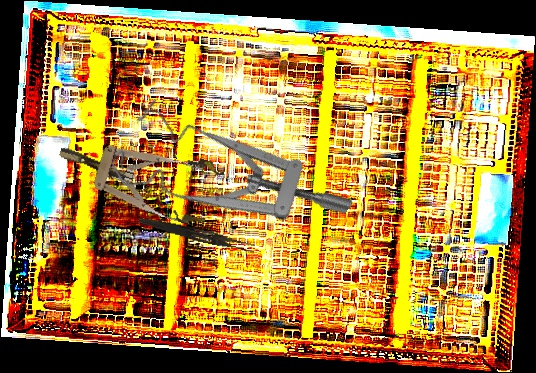Dressing Forceps: (136, 215, 257, 254)
Speculum: (99, 61, 356, 305), (50, 118, 227, 231)
